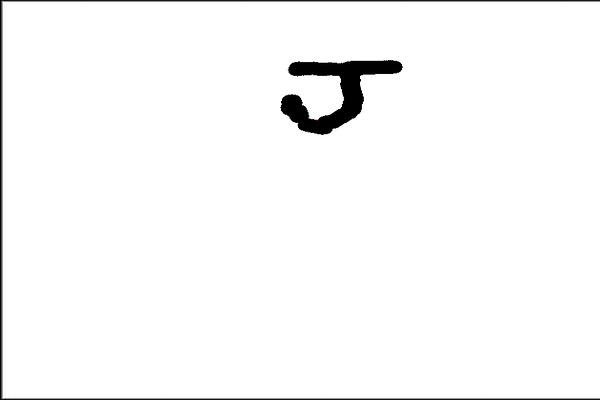J: (271, 51, 411, 147)
